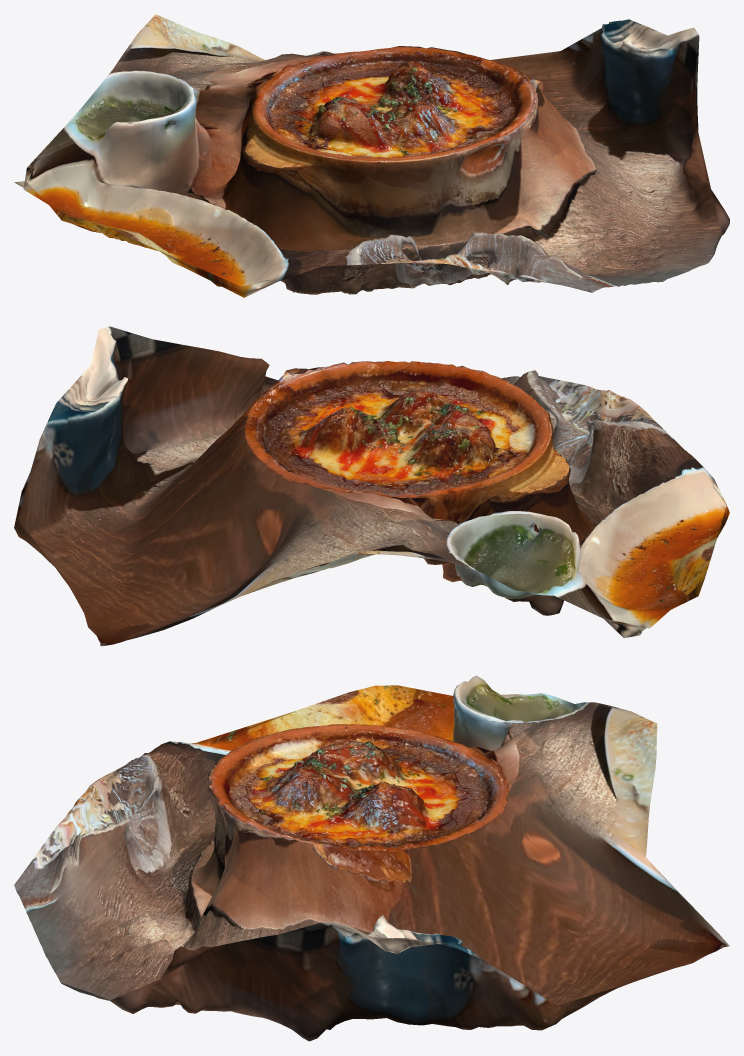
Rendered from ktri-doria.glb.
The picture shows the model from 3 angles, top to bottom: view 1: azimuth 30°, elevation 25°; view 2: azimuth 150°, elevation 25°; view 3: azimuth 270°, elevation 25°; orthographic projection. The views are drawn at different scales.
Visible parts, largest first — view 1: baked_mesh; view 2: baked_mesh; view 3: baked_mesh.
Boxes of the visible parts, <box> form: baked_mesh: <box>14,14,729,297</box>; baked_mesh: <box>14,326,729,646</box>; baked_mesh: <box>14,675,729,1041</box>.
Bounding box in the file's own units: 11.2 × 2.3 × 10.95.
Materials: 1 (1 with a texture image).
